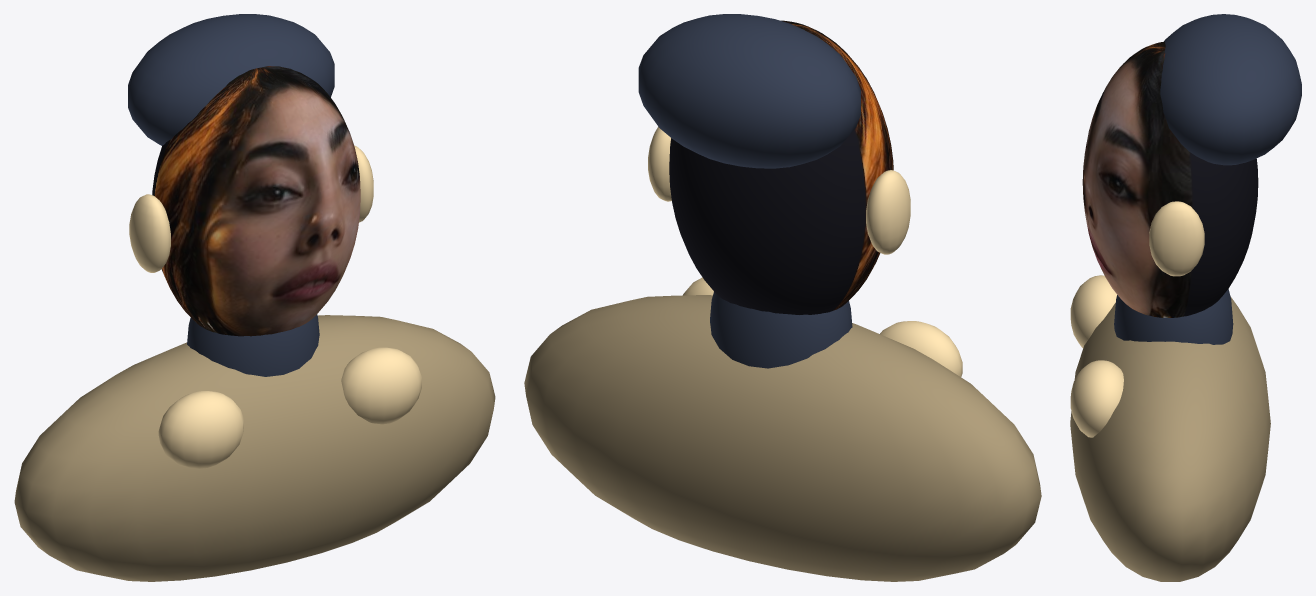
Rendered from performer.glb.
The picture shows the model from 3 angles, left to right: view 1: azimuth 30°, elevation 25°; view 2: azimuth 150°, elevation 25°; view 3: azimuth 270°, elevation 25°; orthographic projection. The views are drawn at different scales.
Size of the model in its own units: 1.69 by 1.7 by 0.7386.
4 materials, 1 textured.
